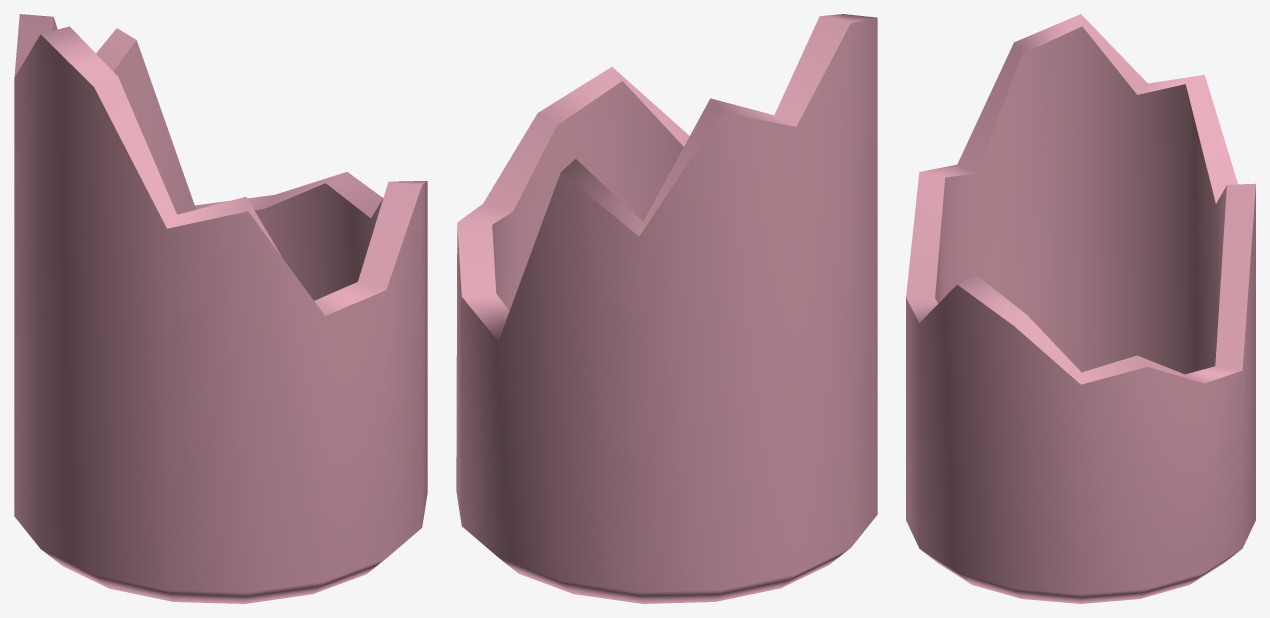
File: Bottle_Broken.fbx
The picture shows the model from 3 angles, left to right: view 1: azimuth 30°, elevation 25°; view 2: azimuth 150°, elevation 25°; view 3: azimuth 270°, elevation 25°; orthographic projection. The views are drawn at different scales.
Visible parts, largest first — view 1: Bottle_Broken; view 2: Bottle_Broken; view 3: Bottle_Broken.
Part boxes in pixels (bbox=[...]): Bottle_Broken: bbox=[14, 14, 427, 603]; Bottle_Broken: bbox=[456, 14, 877, 603]; Bottle_Broken: bbox=[906, 14, 1255, 603].
Size of the model in its own units: 12.03 by 17.1 by 12.03.
